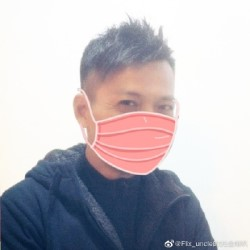mask: (72, 82, 183, 185)
